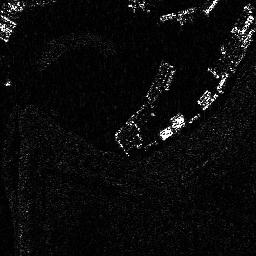ship: (142, 60, 181, 100)
